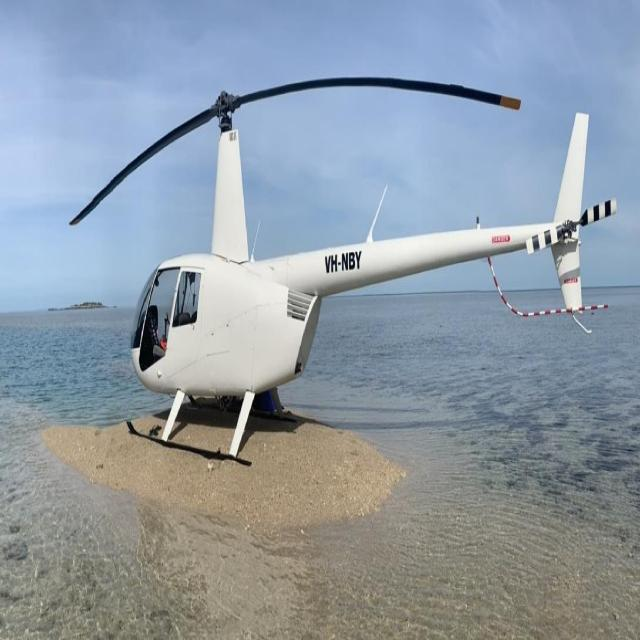CIV_HELO: (122, 85, 590, 469)
